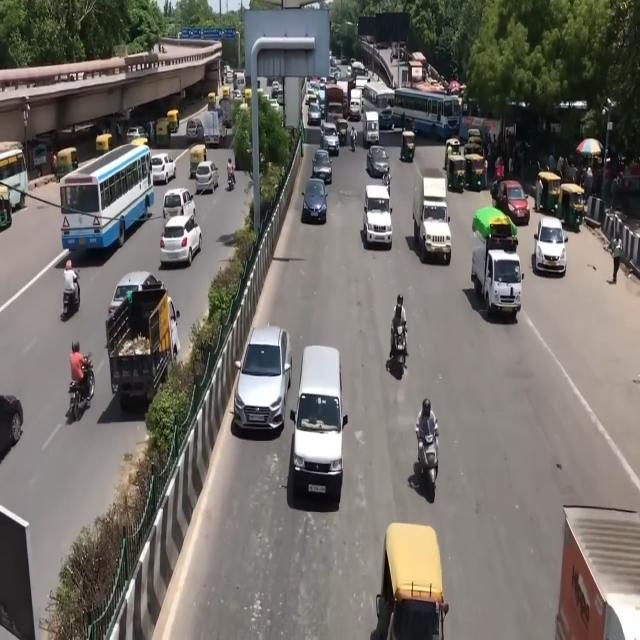auto: (381, 522, 447, 639), (558, 183, 586, 232), (54, 148, 78, 182), (190, 144, 208, 180), (400, 128, 415, 162), (336, 116, 348, 146), (167, 110, 180, 134)
bike-auto: (411, 395, 448, 513), (68, 351, 96, 421), (416, 398, 440, 470), (390, 297, 411, 373), (62, 260, 79, 316), (222, 153, 238, 205), (227, 158, 235, 190), (382, 166, 391, 191), (350, 126, 357, 152)
